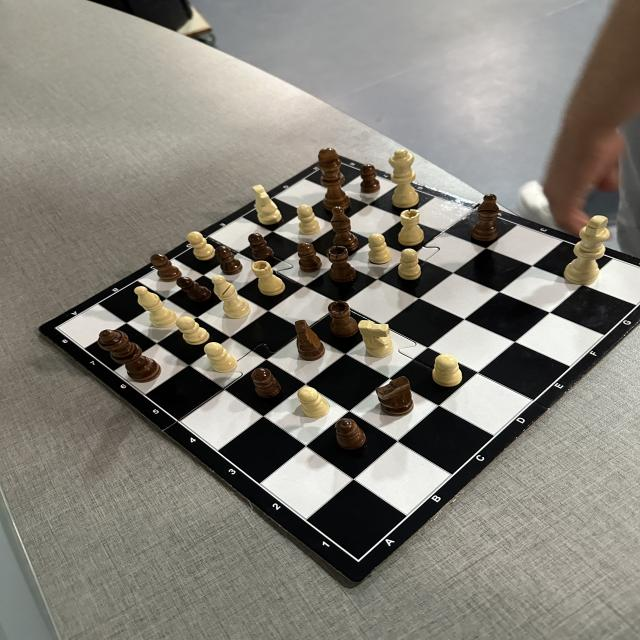Black-Bishop: (470, 193, 501, 242), (330, 206, 360, 252)
Black-King: (317, 148, 351, 211)
Black-Knight: (375, 376, 414, 417), (295, 319, 326, 362)
Black-Pawn: (334, 417, 366, 450), (176, 276, 213, 302), (251, 368, 282, 398), (150, 254, 182, 282), (296, 242, 322, 273), (216, 247, 243, 276), (248, 233, 275, 261), (360, 164, 381, 194)
Black-Queen: (97, 329, 163, 384)
Black-Rook: (326, 246, 357, 283), (328, 300, 358, 338)
White-Bishop: (134, 286, 177, 328), (211, 275, 251, 319)
White-King: (564, 215, 610, 285)
White-Knight: (358, 320, 394, 358), (252, 184, 283, 225)
White-Pawn: (432, 353, 464, 388), (204, 342, 238, 373), (298, 387, 330, 418), (176, 316, 210, 345), (187, 231, 216, 261), (367, 233, 392, 265), (397, 248, 422, 280), (296, 205, 321, 235)
White-Queen: (388, 149, 419, 209)
White-Rook: (251, 260, 286, 296), (397, 209, 425, 247)
